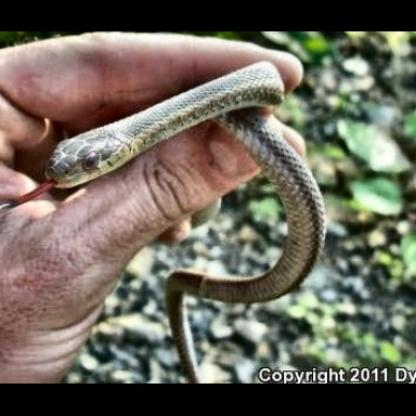Snake: (18, 35, 349, 382)
